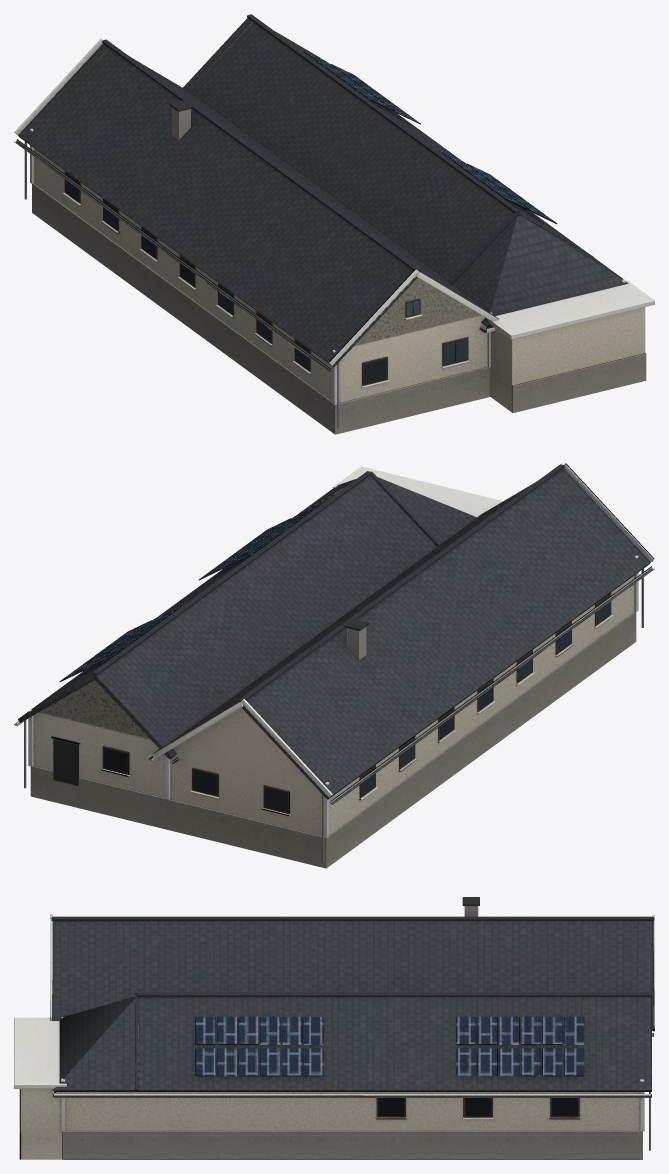
The model's file is lewiatan.glb.
3 renders of one model, top to bottom at view 1: azimuth 30°, elevation 25°; view 2: azimuth 150°, elevation 25°; view 3: azimuth 270°, elevation 25°, orthographic. The views are drawn at different scales.
Parts seen in each view (by area): view 1: lewiatan; view 2: lewiatan; view 3: lewiatan.
Part boxes in pixels (box(x1,y1,x2,y2)): lewiatan: box(14, 14, 654, 434); lewiatan: box(14, 463, 654, 868); lewiatan: box(14, 897, 654, 1159).
Size of the model in its own units: 17.93 by 8.72 by 33.21.
Materials: 1 (1 with a texture image).
